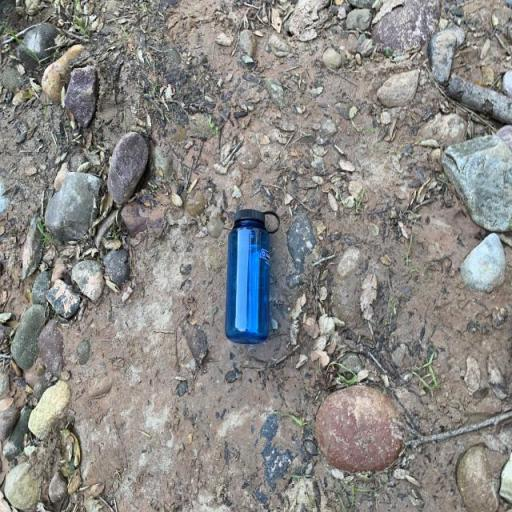bottle: (226, 208, 280, 344)
